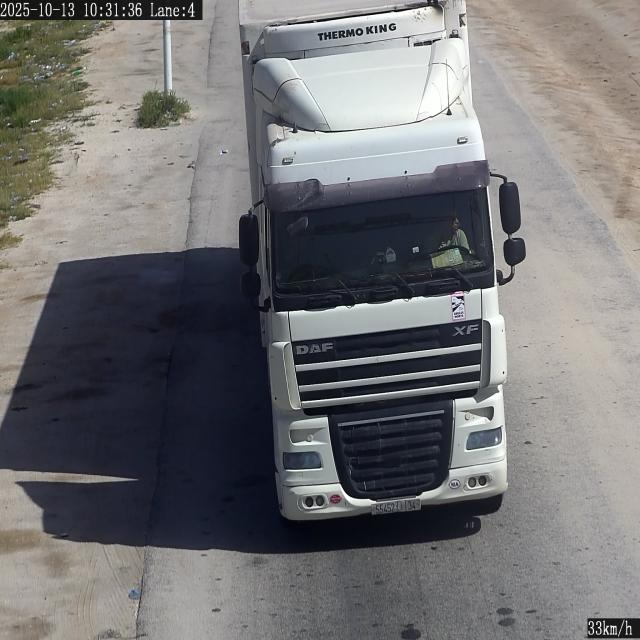BUS: (370, 499, 421, 514)
